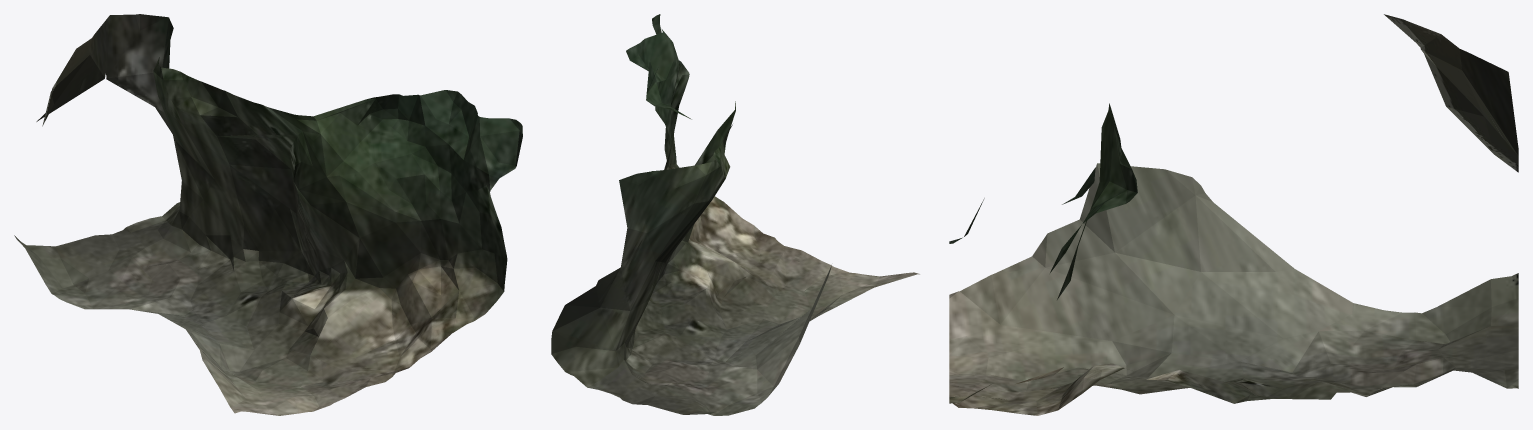
3 views of the same model, side by side, from view 1: azimuth 30°, elevation 25°; view 2: azimuth 150°, elevation 25°; view 3: azimuth 270°, elevation 25° (orthographic). The views are drawn at different scales.
Bounding box in the file's own units: 4.49 × 3.6 × 5.9.
Materials: 3 (3 with a texture image).
